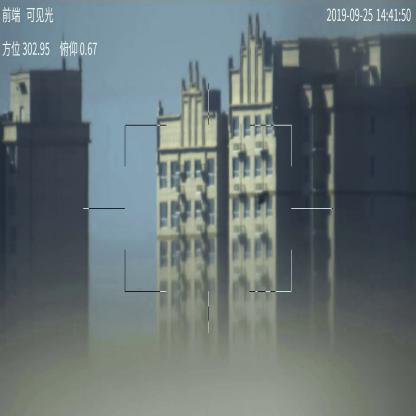uav: (253, 191, 271, 212)
